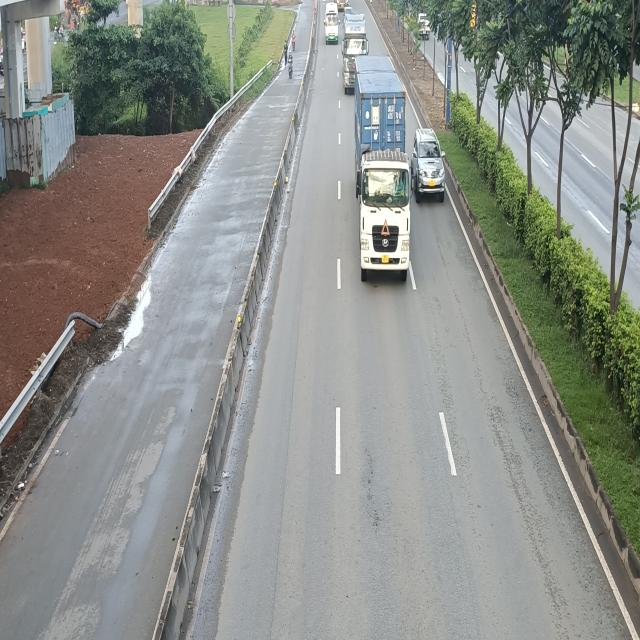car: (412, 128, 446, 201)
coach: (324, 1, 339, 44)
container: (352, 53, 412, 279), (342, 15, 369, 94)
